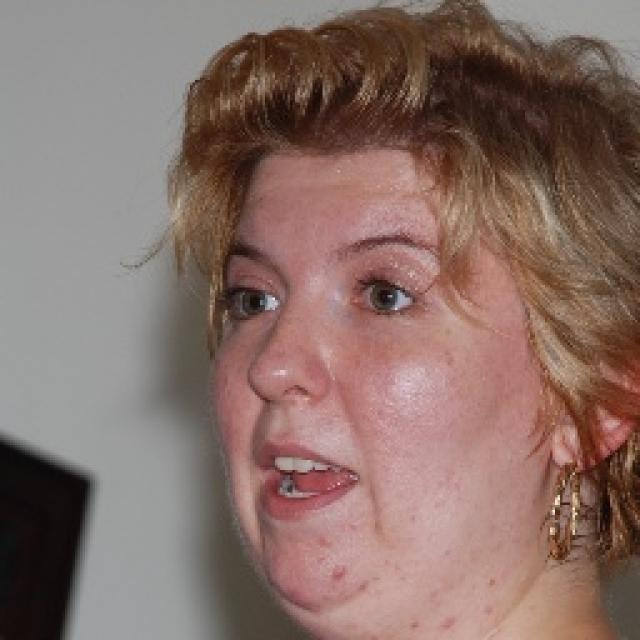earlobe: (547, 350, 640, 470)
